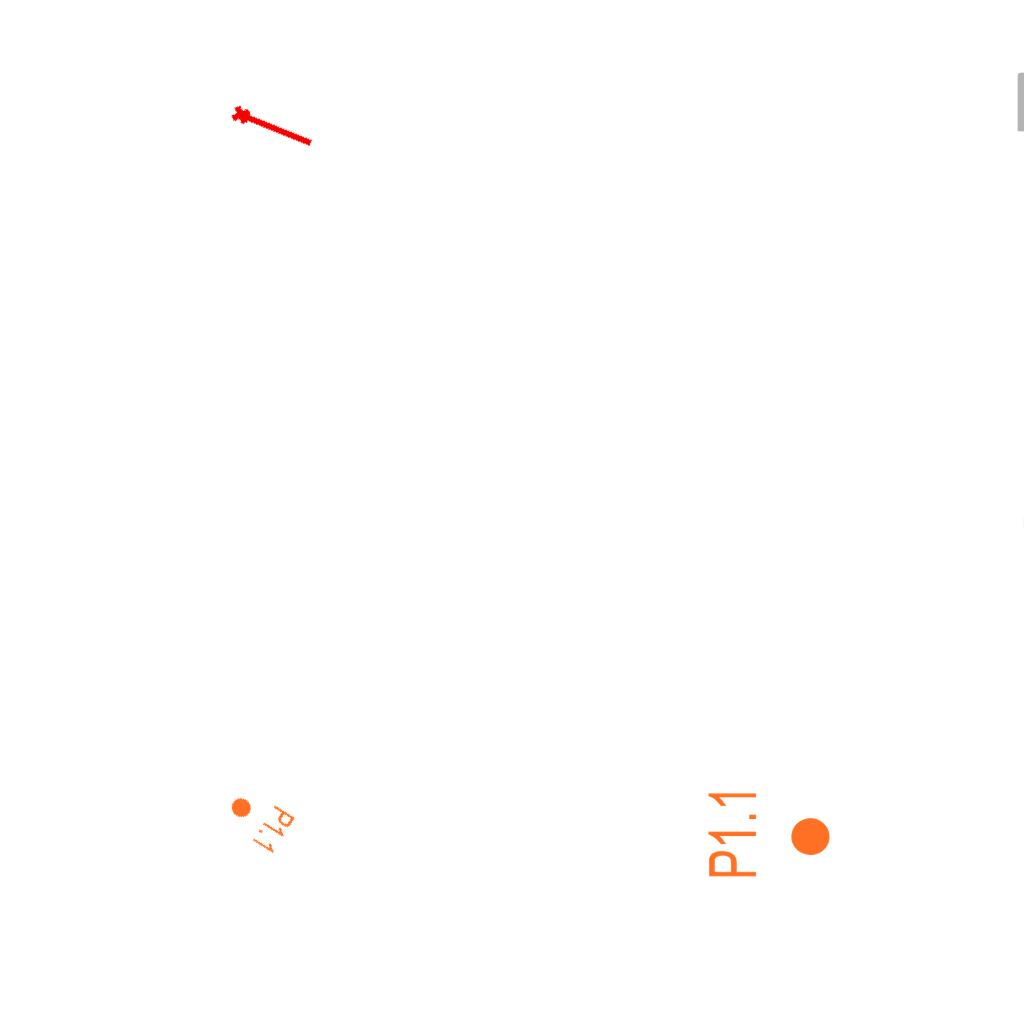ASR_Ansaugoeffnung: (227, 99, 319, 154)
Downlight_LED_Einbauleuchten_Flur: (705, 787, 833, 880), (218, 783, 298, 857)
